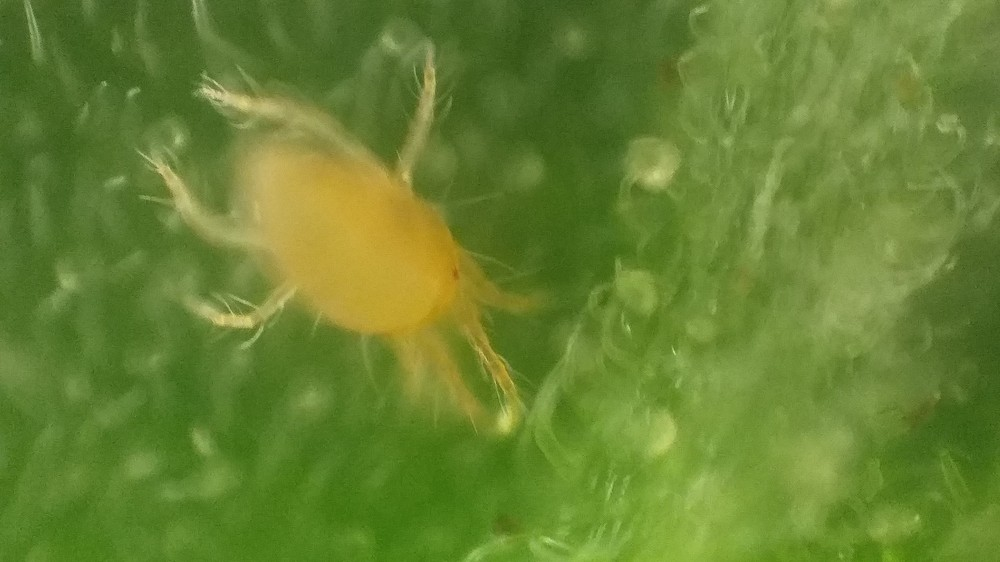Aracnido Rojo: (138, 51, 570, 450)
